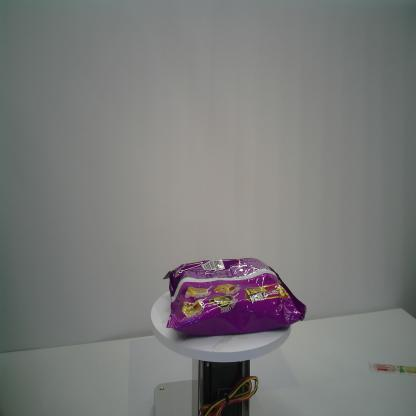Instant Noodles: (162, 255, 307, 341)
